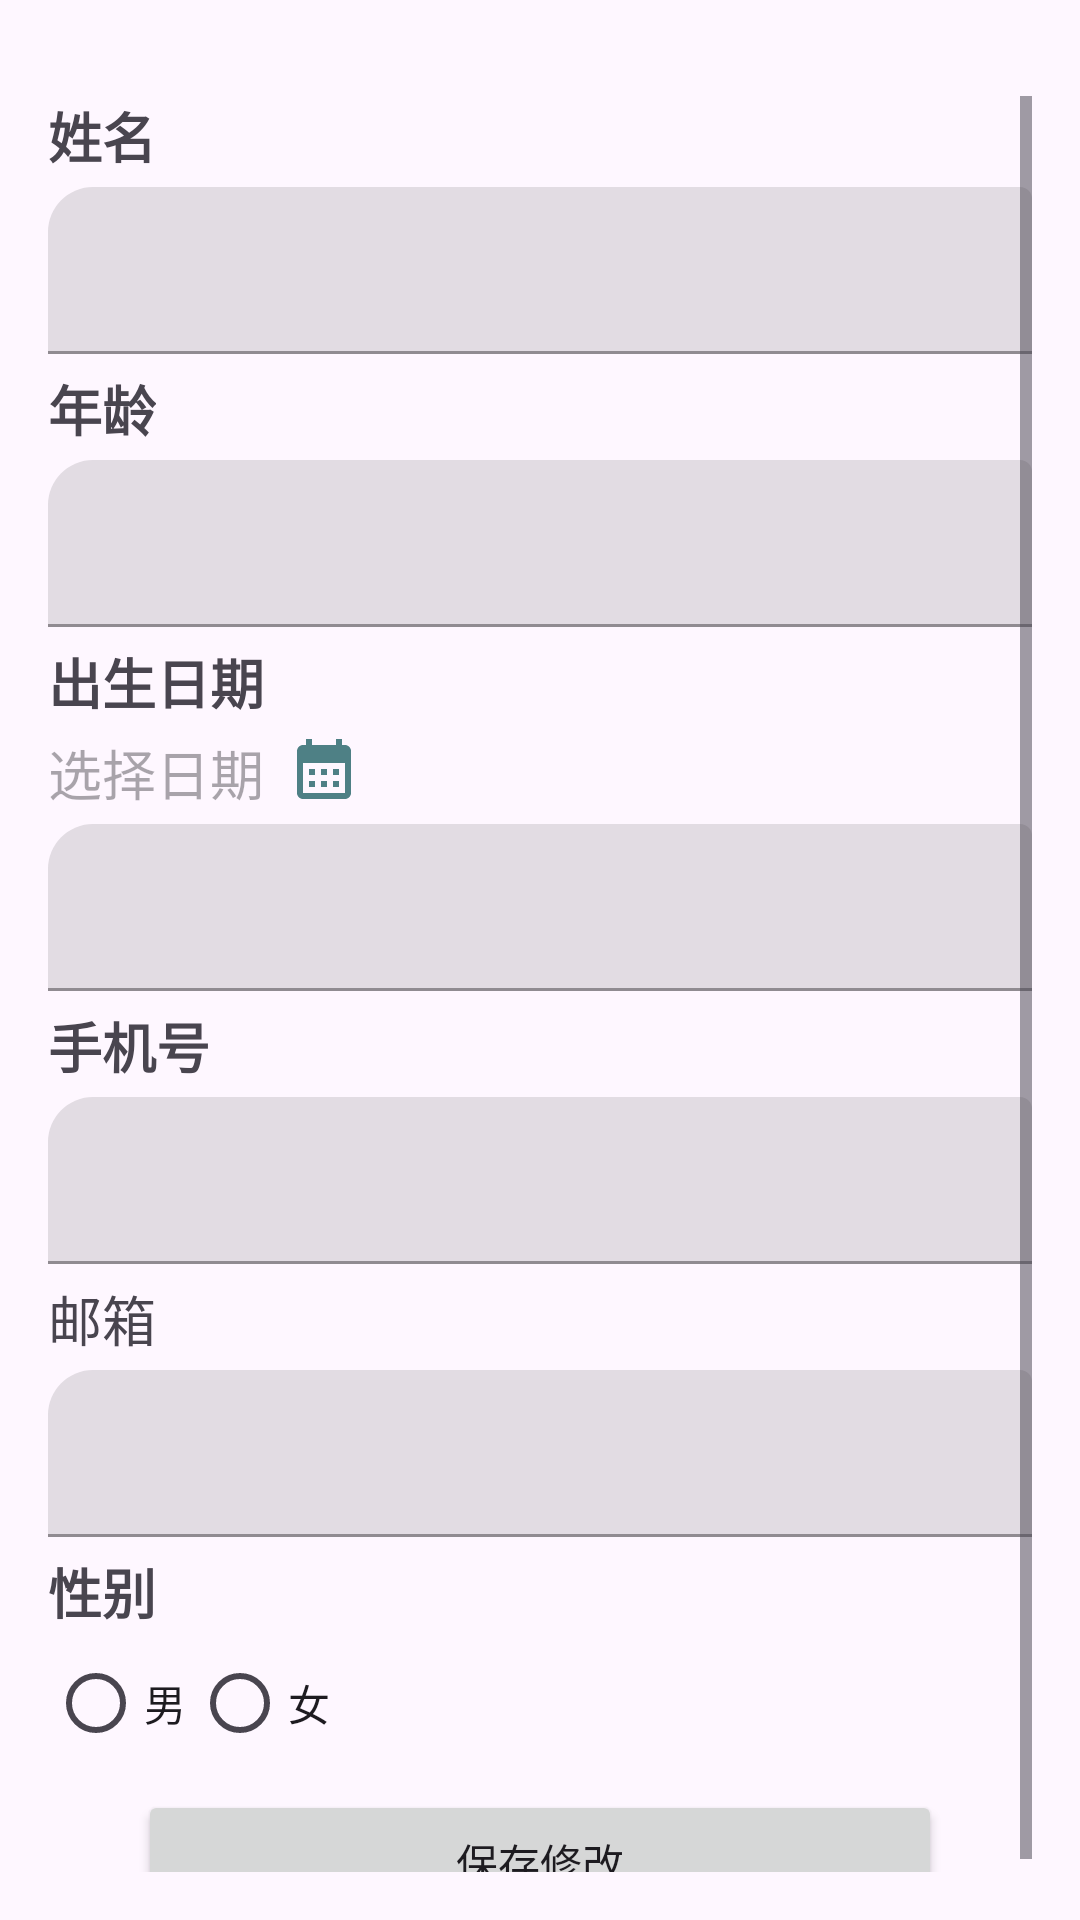

Icons on this 1080px×1920px Android screen, each with the point to tap as (x=x, y=y):
calendar: (x=324, y=769)
